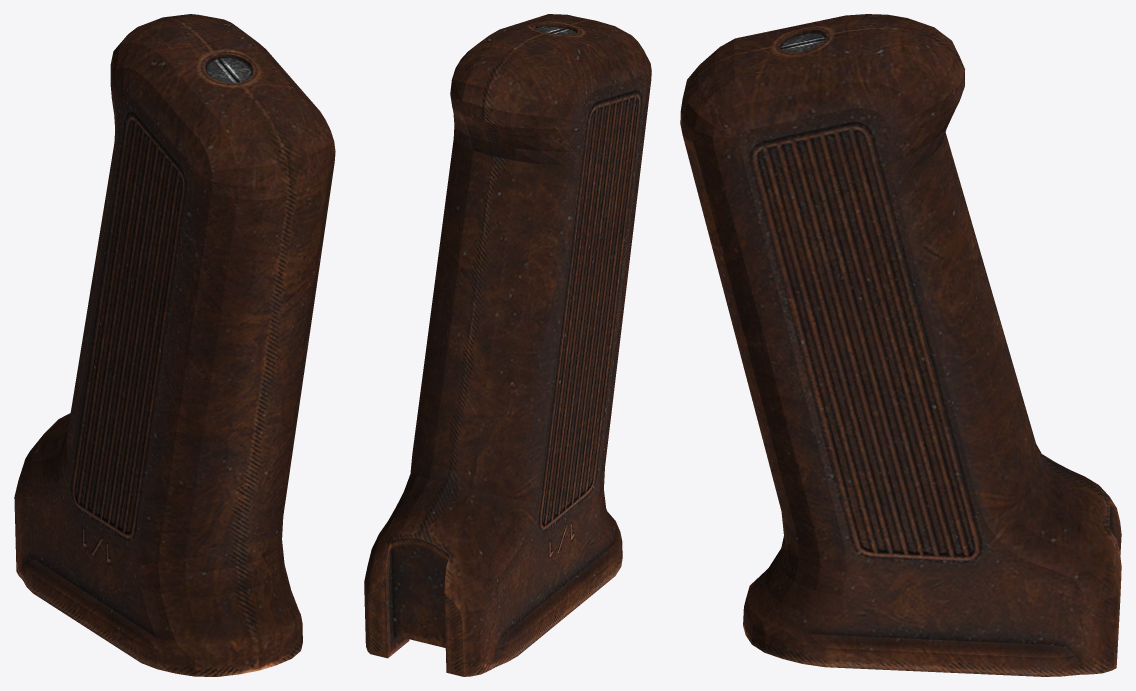
The picture shows the model from 3 angles, left to right: view 1: azimuth 30°, elevation 25°; view 2: azimuth 150°, elevation 25°; view 3: azimuth 270°, elevation 25°; orthographic projection. The views are drawn at different scales.
Visible parts, largest first — view 1: TW_646371779f5f0ea59a04c204_PZ_Import; view 2: TW_646371779f5f0ea59a04c204_PZ_Import; view 3: TW_646371779f5f0ea59a04c204_PZ_Import.
Part boxes in pixels (x1,y1,x2,y2): TW_646371779f5f0ea59a04c204_PZ_Import: (14,14,335,676); TW_646371779f5f0ea59a04c204_PZ_Import: (364,14,651,676); TW_646371779f5f0ea59a04c204_PZ_Import: (680,14,1121,676).
Bounding box in the file's own units: 0.0164 × 0.0406 × 0.0641.
Materials: 1 (1 with a texture image).
